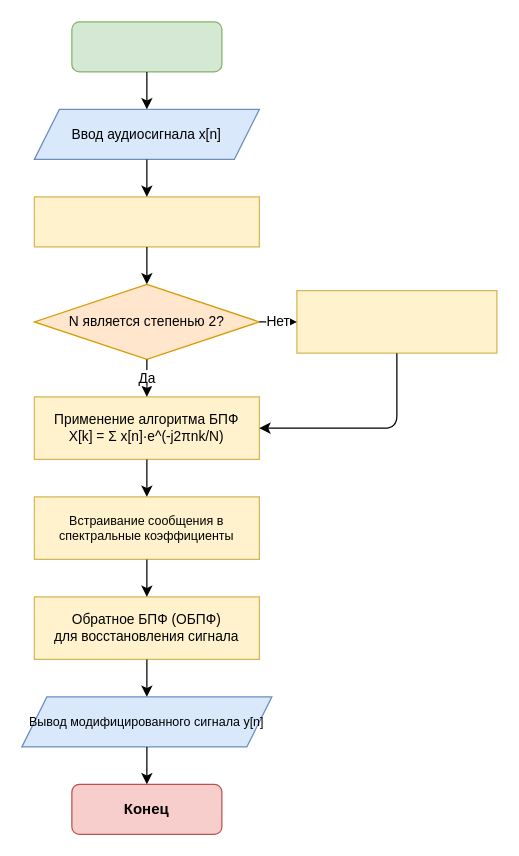
This 519x856 diagram has some shape labels left out. The shapes that lost their labels are listed below. From the top down, each one's centre as x and y in pixels, then its label:
At (146,46): "Начало".
At (146,221): "Определение длины сигнала N".
At (396,321): "Дополнение нулями до ближайшей степени 2".
